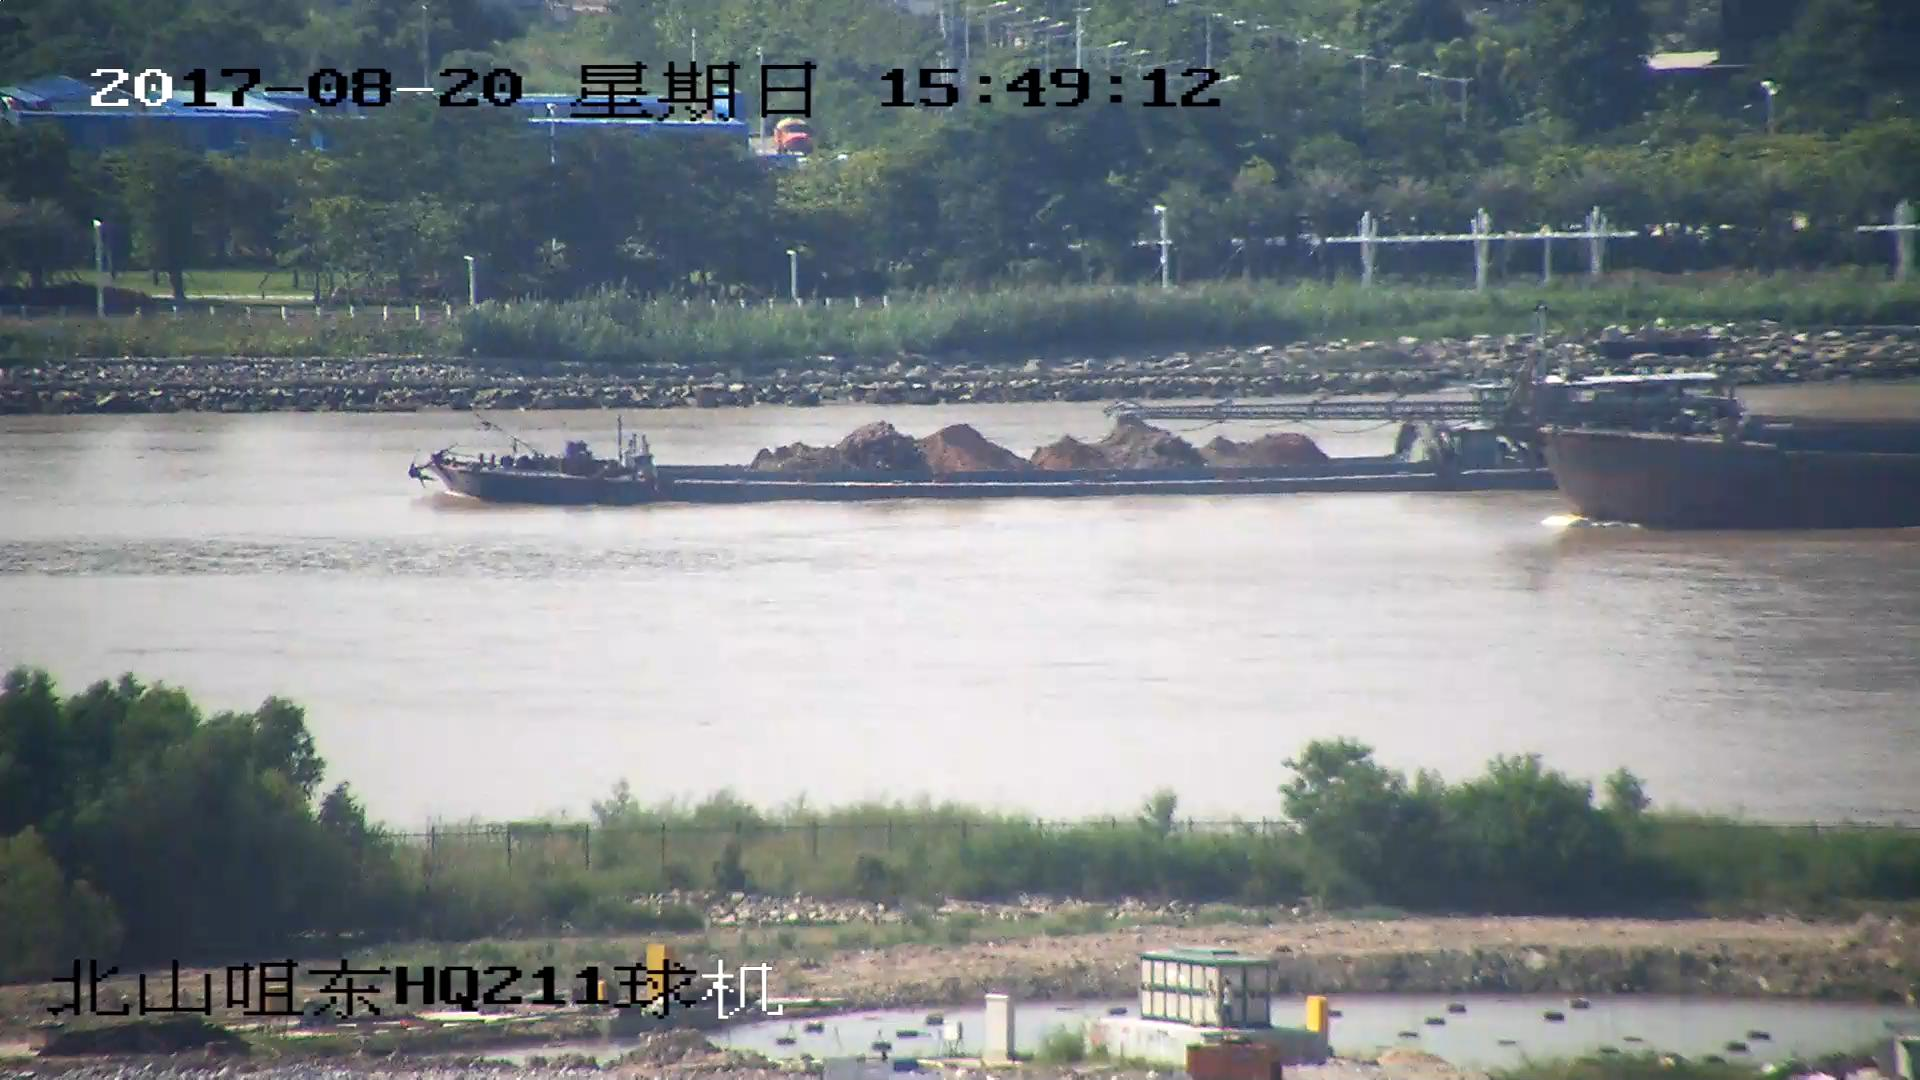bulk cargo carrier: (1129, 337, 1920, 536)
ore carrier: (412, 374, 1733, 503)
